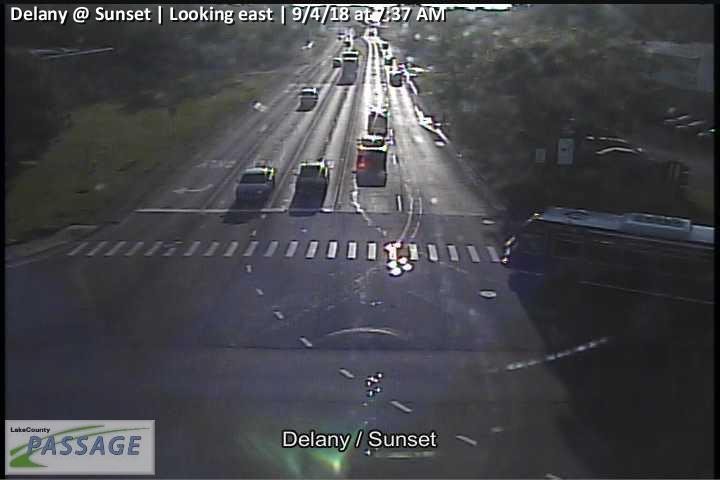SUV: (296, 160, 329, 193)
Sedan: (235, 165, 276, 199), (369, 109, 388, 134), (300, 86, 319, 105)
Truck: (502, 205, 720, 307), (356, 134, 388, 184), (342, 50, 358, 69)
